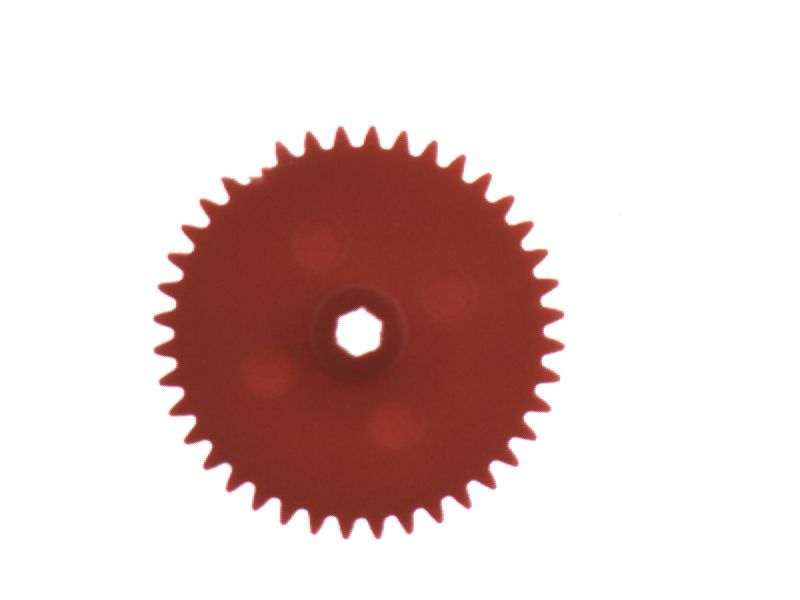defect_lack: (235, 150, 291, 194)
